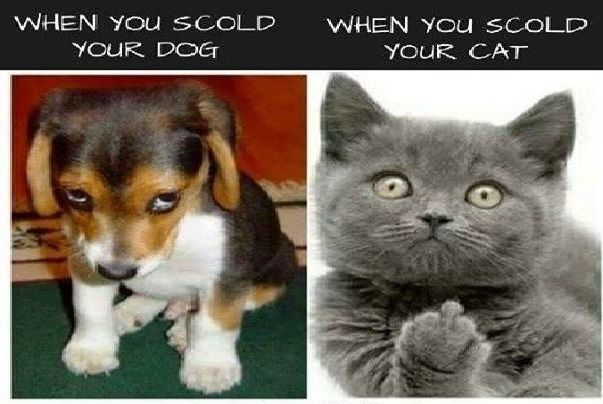cat: (317, 73, 601, 396)
dog: (27, 86, 298, 391)
